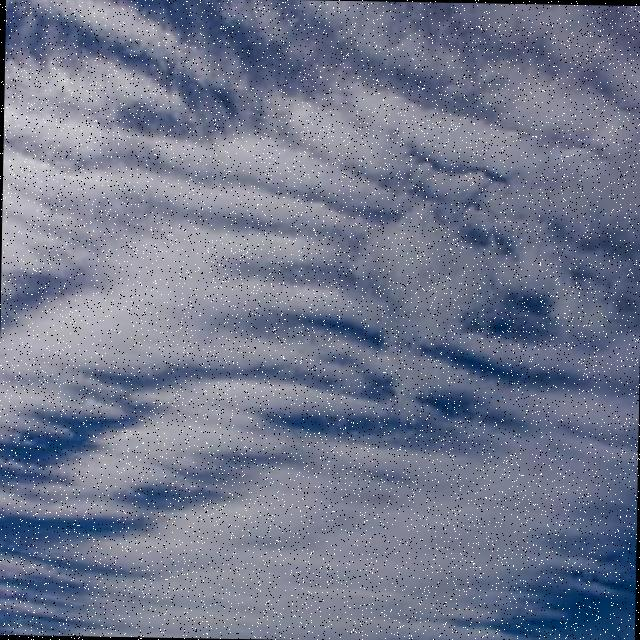Cc: (1, 35, 640, 562)
